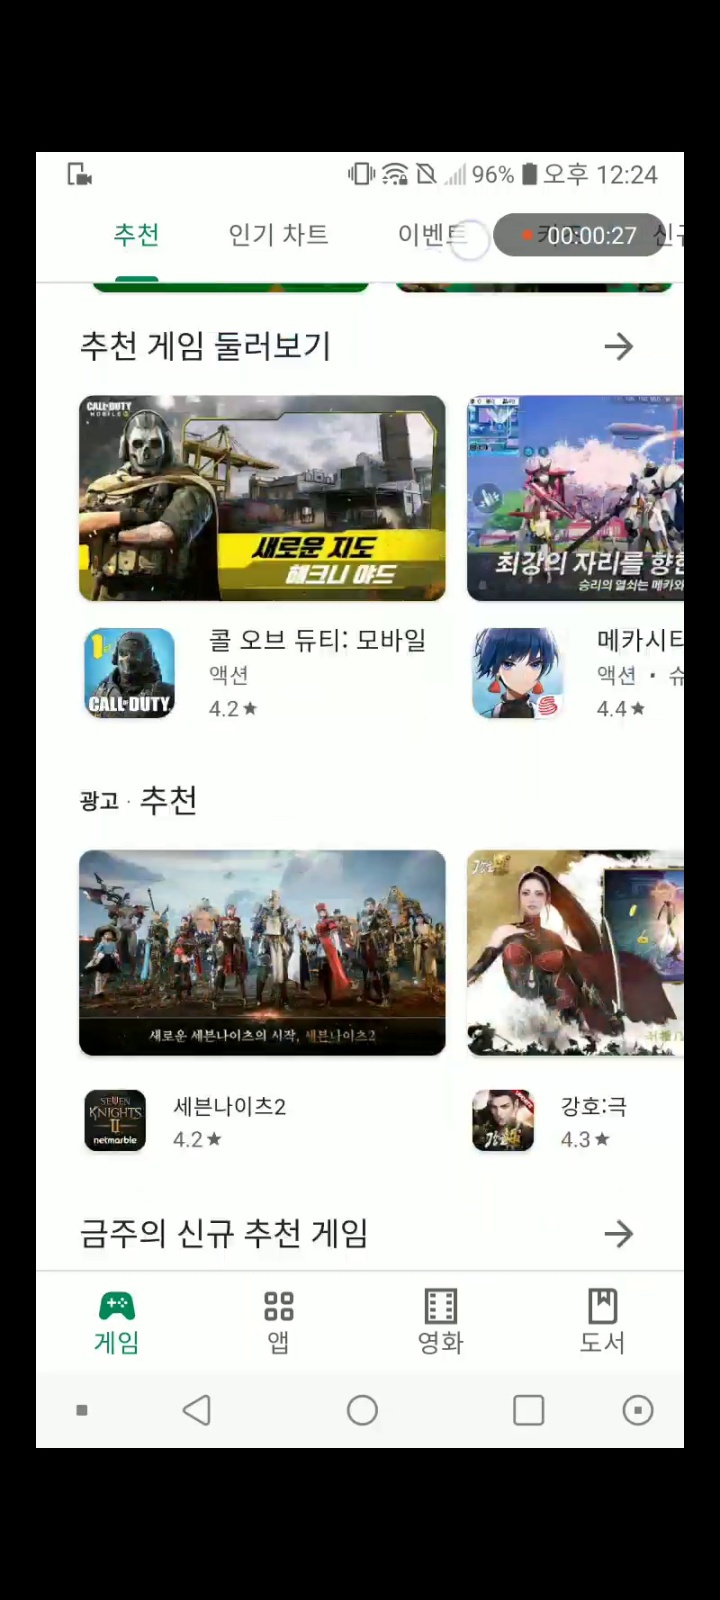Cursor: (449, 218, 494, 264)
